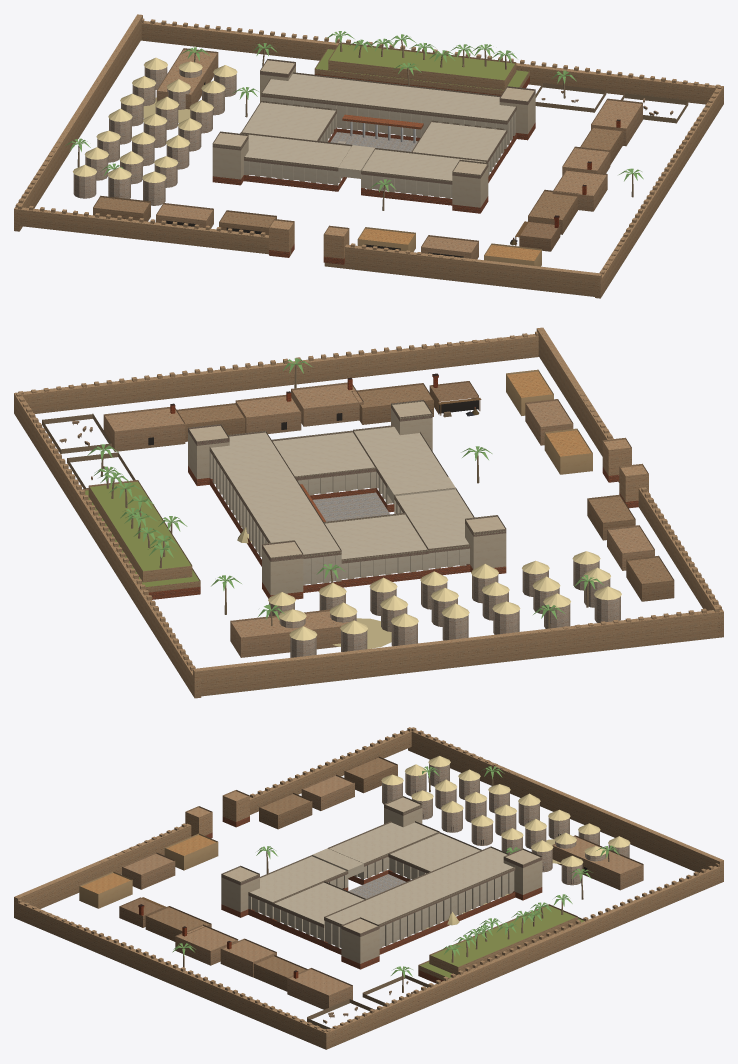
File: uruk_palace.glb
3 renders of one model, top to bottom at view 1: azimuth 30°, elevation 25°; view 2: azimuth 150°, elevation 25°; view 3: azimuth 270°, elevation 25°, orthographic. The views are drawn at different scales.
Parts seen in each view (by area): view 1: uruk_palace; view 2: uruk_palace; view 3: uruk_palace.
Boxes of the visible parts, left/top/right/bottom form: uruk_palace: left=14, top=14, right=723, bottom=298; uruk_palace: left=14, top=327, right=723, bottom=698; uruk_palace: left=14, top=727, right=723, bottom=1049.
Bounding box in the file's own units: 235 × 15.15 × 235.
20 materials, 5 textured.
